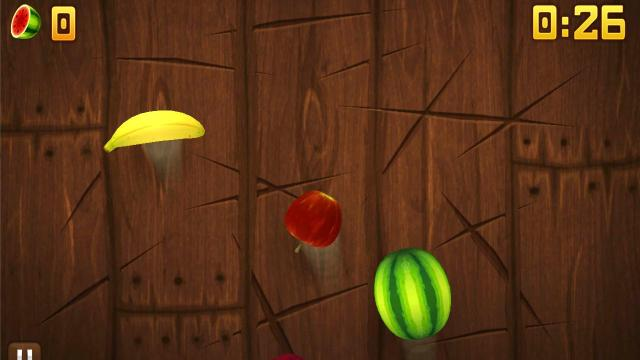fruit: (371, 244, 454, 342), (105, 109, 205, 152), (286, 190, 342, 253)
ignore: (10, 4, 42, 40)
